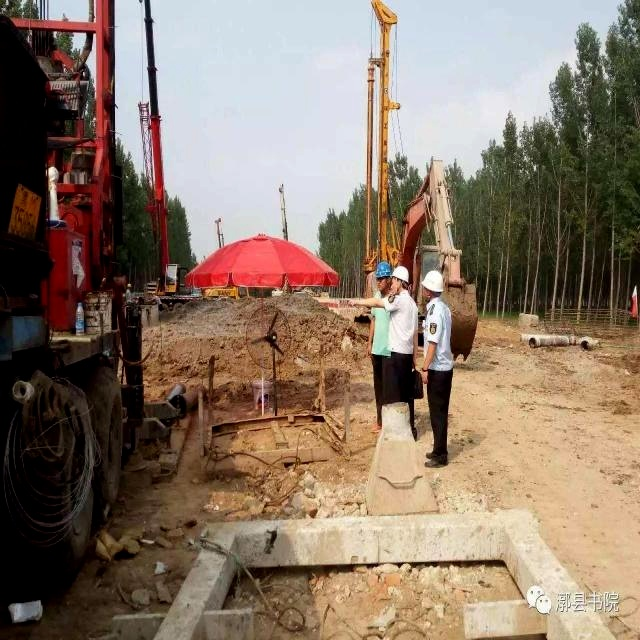Con_Casco: (422, 269, 443, 300)
